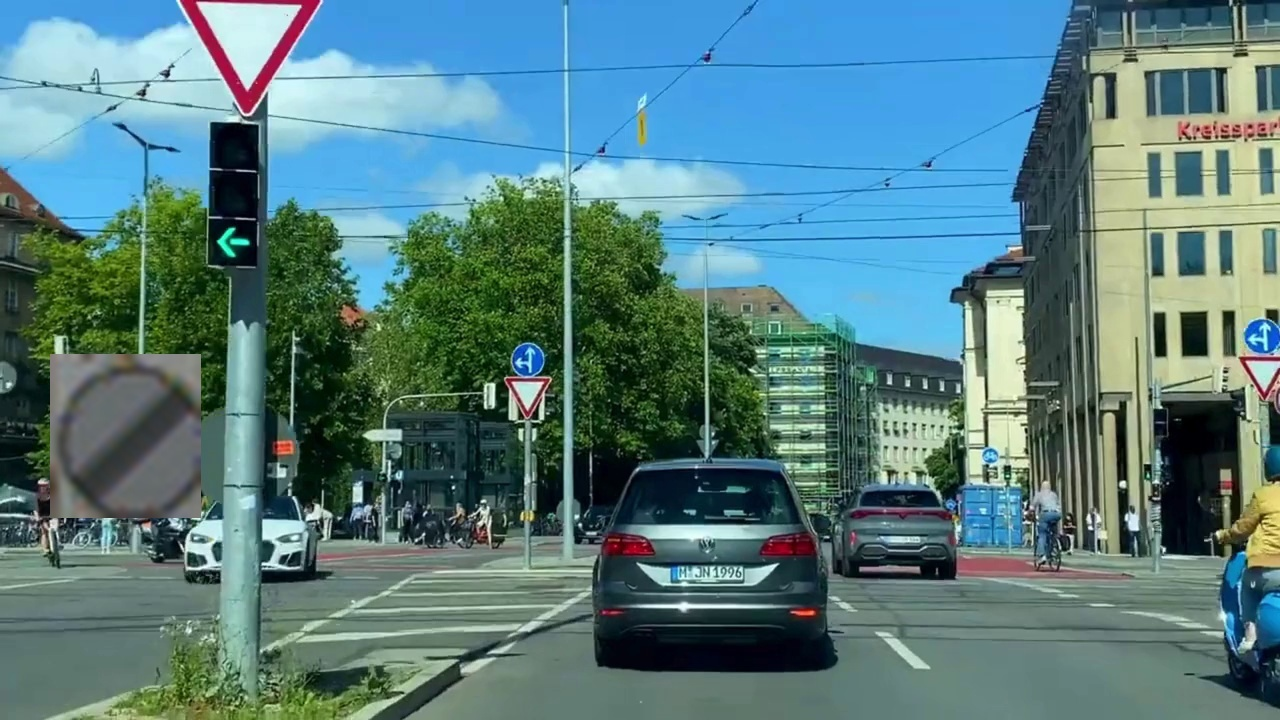End limits: (50, 354, 201, 518)
